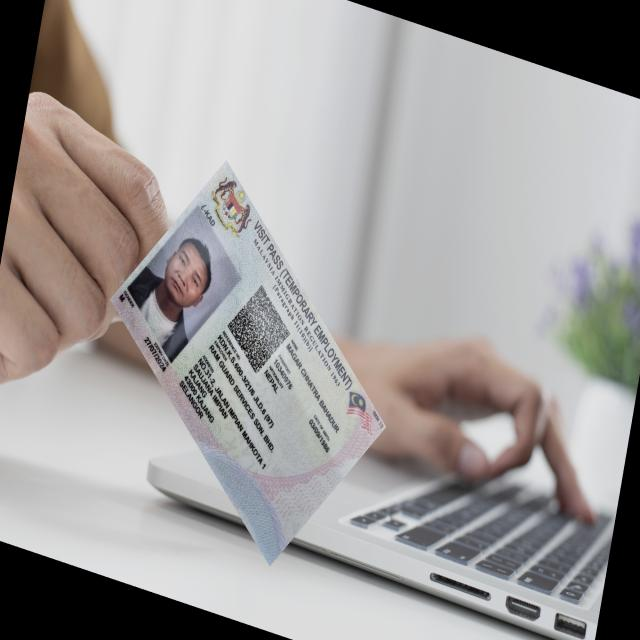ikad-temp: (110, 158, 386, 566)
